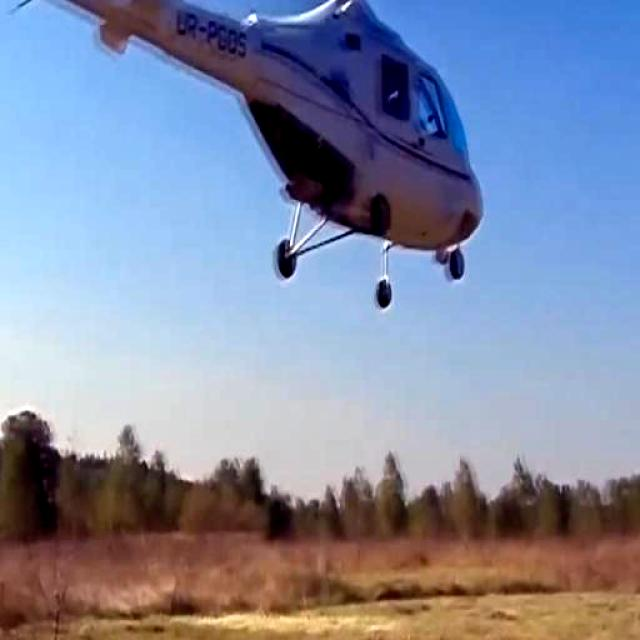drone: (0, 0, 491, 318)
